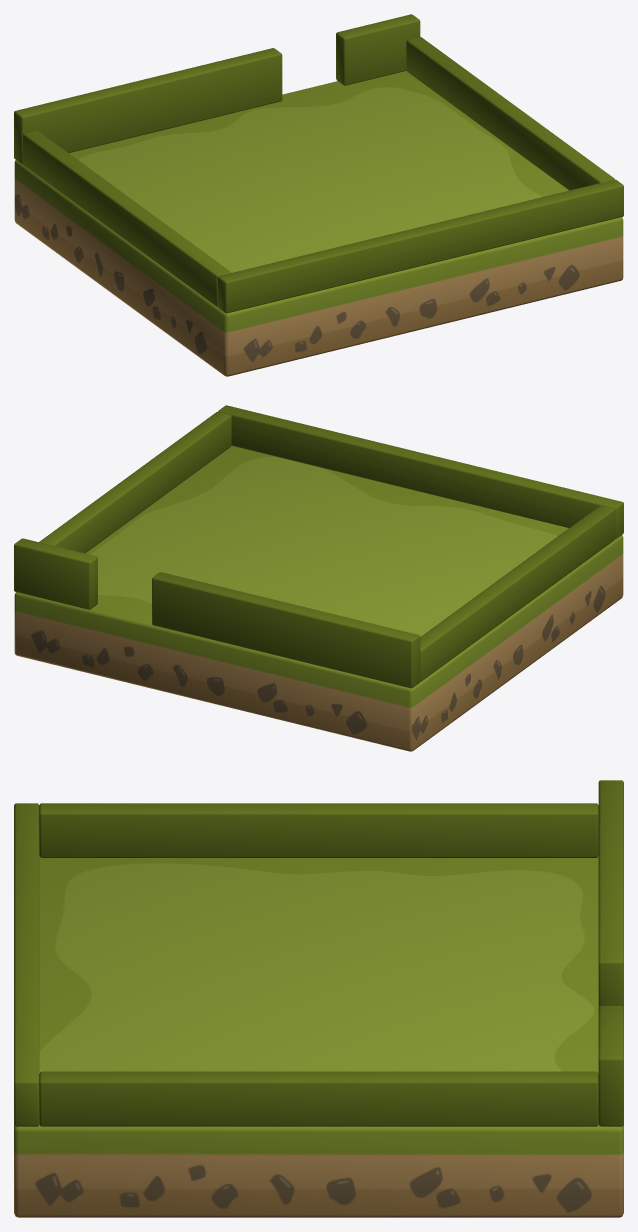
File: Floor1.gltf
The picture shows the model from 3 angles, top to bottom: view 1: azimuth 30°, elevation 25°; view 2: azimuth 150°, elevation 25°; view 3: azimuth 270°, elevation 25°; orthographic projection. The views are drawn at different scales.
Parts seen in each view (by area): view 1: Cube; view 2: Cube; view 3: Cube.
Boxes of the visible parts, x1,y1,x2,y2 form: Cube: [14, 14, 623, 376]; Cube: [14, 405, 623, 751]; Cube: [14, 780, 623, 1217].
Size of the model in its own units: 13 by 3.5 by 12.
Materials: 1 (1 with a texture image).
